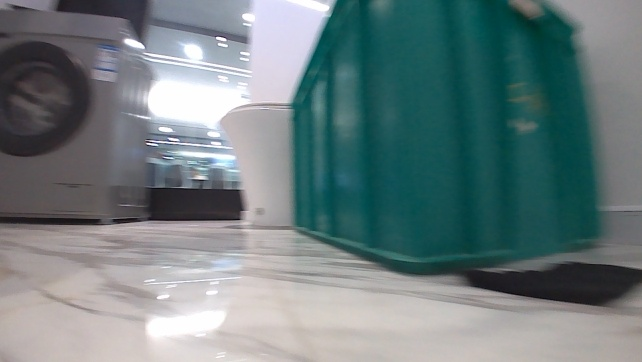socks: (459, 258, 641, 308)
toilet: (212, 99, 295, 227)
washing_machine: (0, 6, 158, 226)
